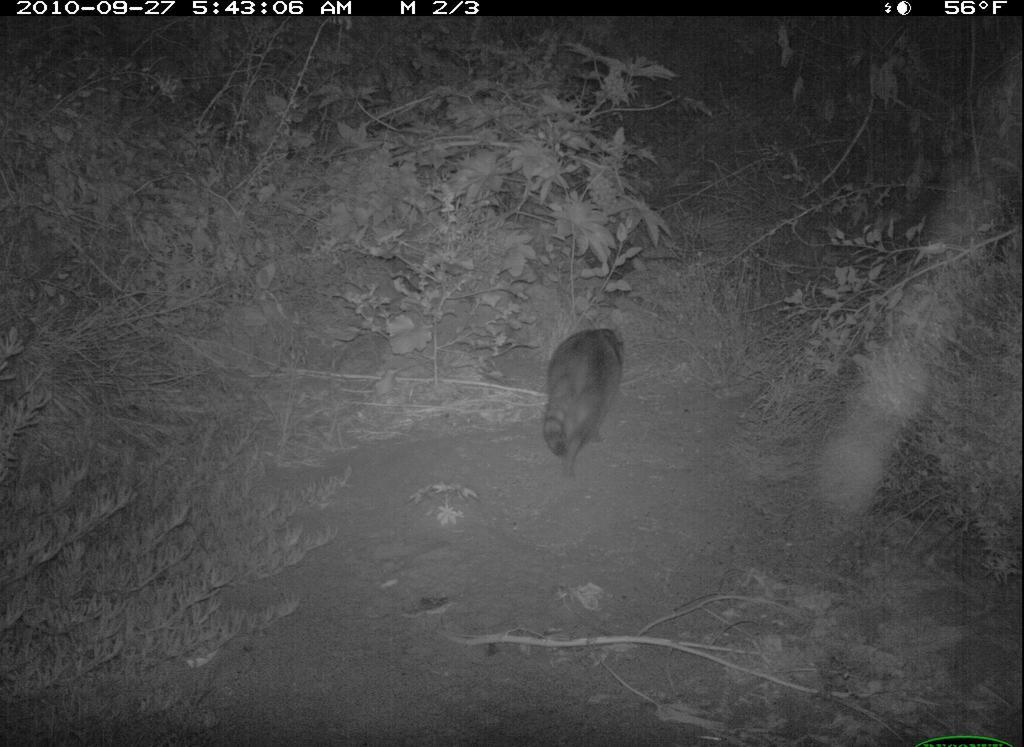raccoon: (533, 321, 635, 488)
